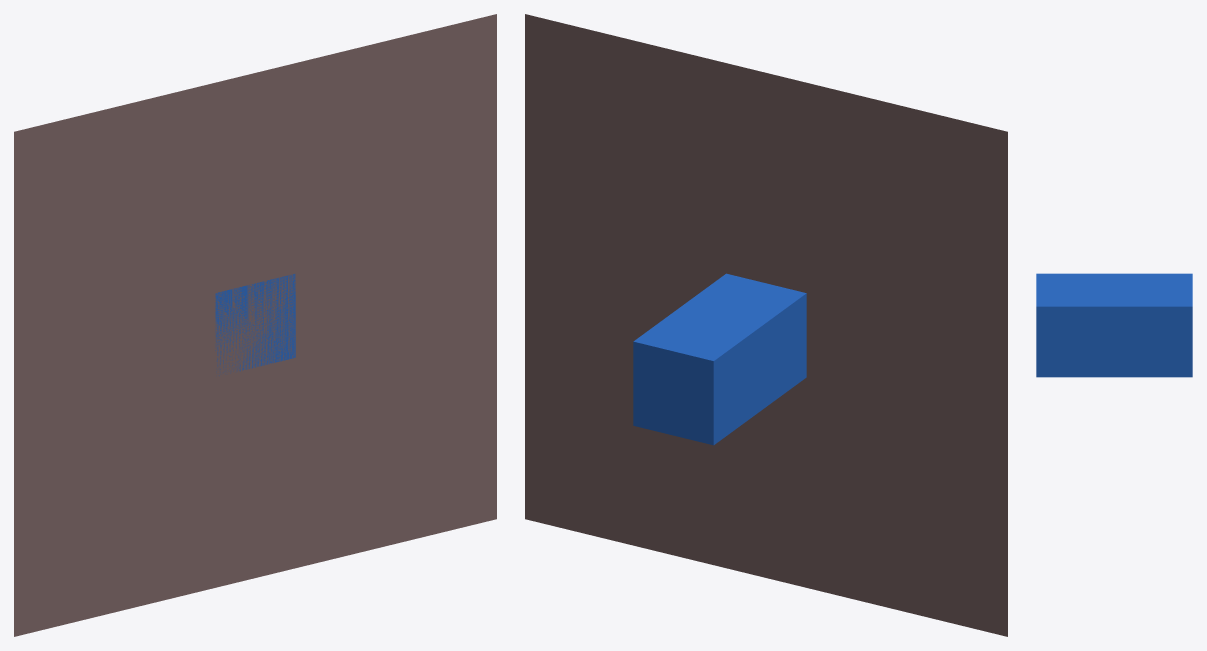
Rendered from 0_test_obstaculo_simple.dae.
The picture shows the model from 3 angles, left to right: view 1: azimuth 30°, elevation 25°; view 2: azimuth 150°, elevation 25°; view 3: azimuth 270°, elevation 25°; orthographic projection. The views are drawn at different scales.
Parts seen in each view (by area): view 1: Suelo, Cube; view 2: Suelo, Cube; view 3: Cube.
Part boxes in pixels (bbox=[...]): Suelo: bbox=[14, 14, 496, 636]; Cube: bbox=[215, 274, 295, 375]; Suelo: bbox=[525, 14, 1007, 636]; Cube: bbox=[633, 273, 806, 445]; Cube: bbox=[1036, 273, 1192, 377].
Bounding box in the file's own units: 60 × 20 × 60.
